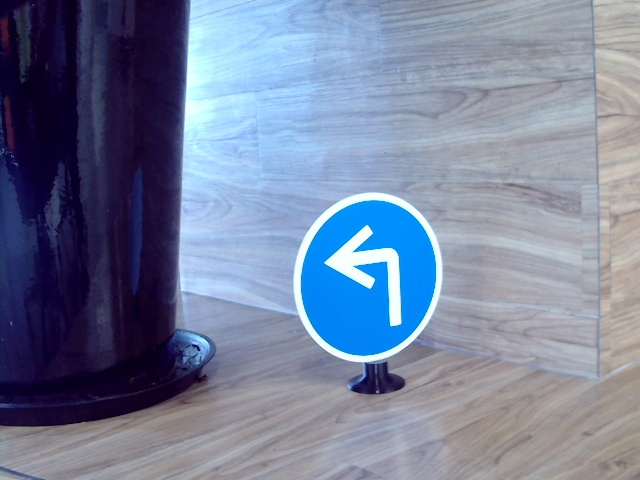turn_left: (325, 222, 408, 329)
